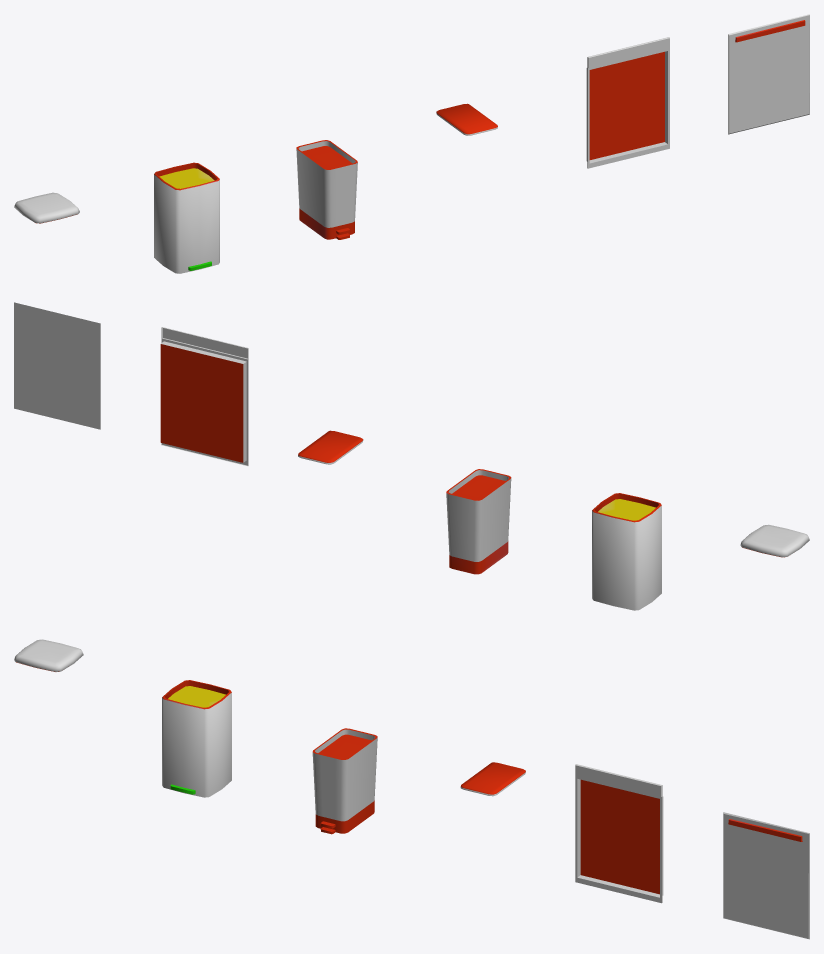
File: kitchen_trash_furnace.fbx
3 views of the same model, one above another, from view 1: azimuth 30°, elevation 25°; view 2: azimuth 150°, elevation 25°; view 3: azimuth 330°, elevation 25° (orthographic). The views are drawn at different scales.
Visible parts, largest first — view 1: Furnace, Furnace_door, kitchen_trash_1, kitchen_trash_2, kitchen_trash_1_top, kitchen_trash_2_top; view 2: Furnace, Furnace_door, kitchen_trash_1, kitchen_trash_2, kitchen_trash_1_top, kitchen_trash_2_top; view 3: Furnace, Furnace_door, kitchen_trash_1, kitchen_trash_2, kitchen_trash_1_top, kitchen_trash_2_top.
Boxes of the visible parts, x1=… form: Furnace: x1=586, y1=37, x2=669, y2=168; Furnace_door: x1=728, y1=14, x2=809, y2=134; kitchen_trash_1: x1=154, y1=162, x2=219, y2=273; kitchen_trash_2: x1=296, y1=140, x2=357, y2=239; kitchen_trash_1_top: x1=14, y1=192, x2=79, y2=223; kitchen_trash_2_top: x1=436, y1=103, x2=497, y2=135; Furnace: x1=160, y1=327, x2=248, y2=466; Furnace_door: x1=14, y1=302, x2=100, y2=429; kitchen_trash_1: x1=592, y1=493, x2=661, y2=610; kitchen_trash_2: x1=446, y1=469, x2=511, y2=574; kitchen_trash_1_top: x1=740, y1=524, x2=809, y2=557; kitchen_trash_2_top: x1=298, y1=430, x2=363, y2=464; Furnace: x1=575, y1=764, x2=663, y2=903; Furnace_door: x1=723, y1=812, x2=809, y2=939; kitchen_trash_1: x1=162, y1=680, x2=231, y2=797; kitchen_trash_2: x1=312, y1=728, x2=377, y2=834; kitchen_trash_1_top: x1=14, y1=639, x2=83, y2=671; kitchen_trash_2_top: x1=460, y1=762, x2=525, y2=796.
Bounding box in the file's own units: 546 × 85.99 × 49.08.
